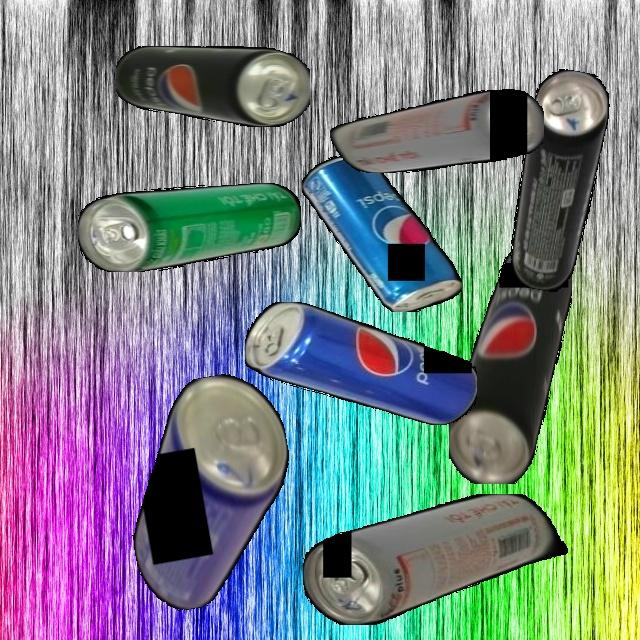debris: (108, 366, 312, 616), (303, 493, 568, 625), (448, 242, 572, 484), (244, 302, 477, 425), (501, 65, 615, 296), (302, 155, 462, 312), (78, 182, 301, 272), (329, 89, 544, 173), (115, 46, 310, 127)
